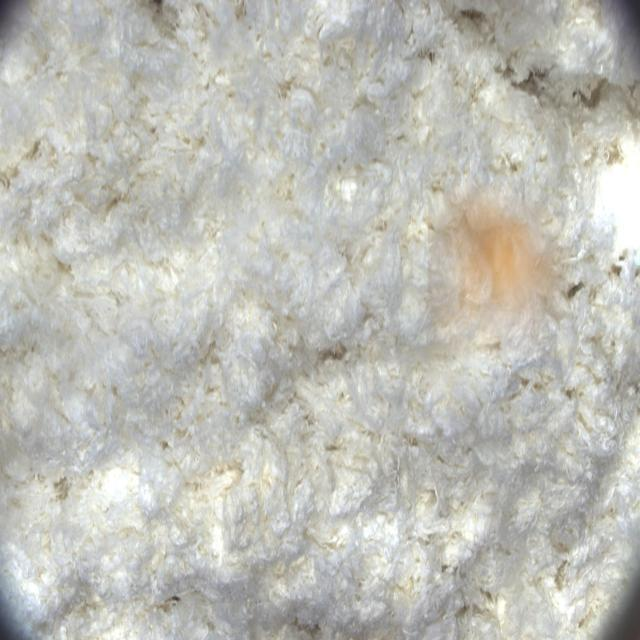dust: (428, 179, 573, 359)
